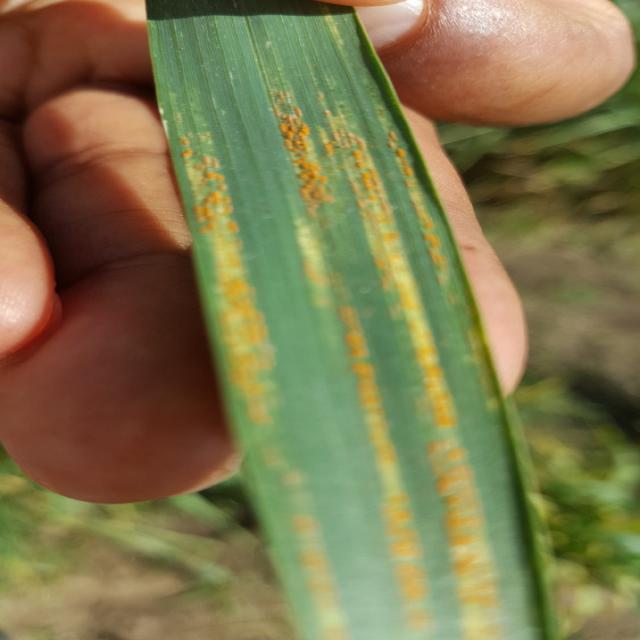wheat-yellowrust: (171, 102, 353, 640), (326, 111, 509, 640), (302, 227, 442, 640), (382, 121, 511, 421), (260, 71, 336, 221)
